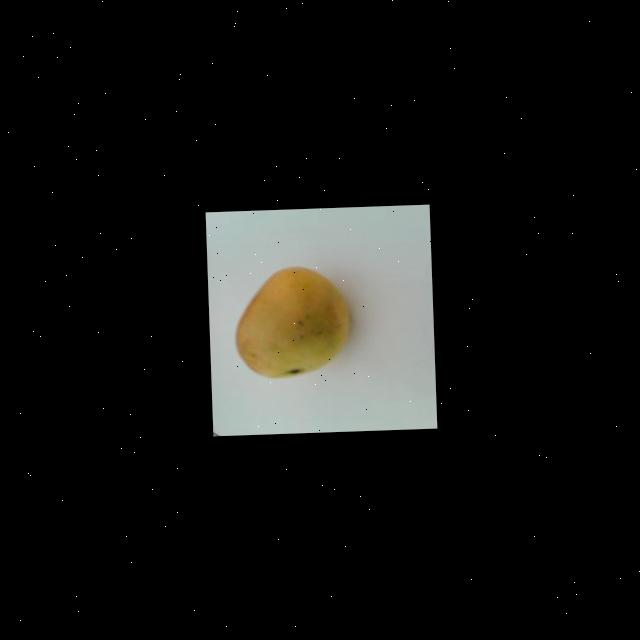Mango: (230, 263, 351, 379)
